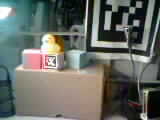duck: (37, 27, 58, 50)
